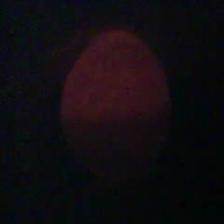fertile: (60, 27, 170, 175)
